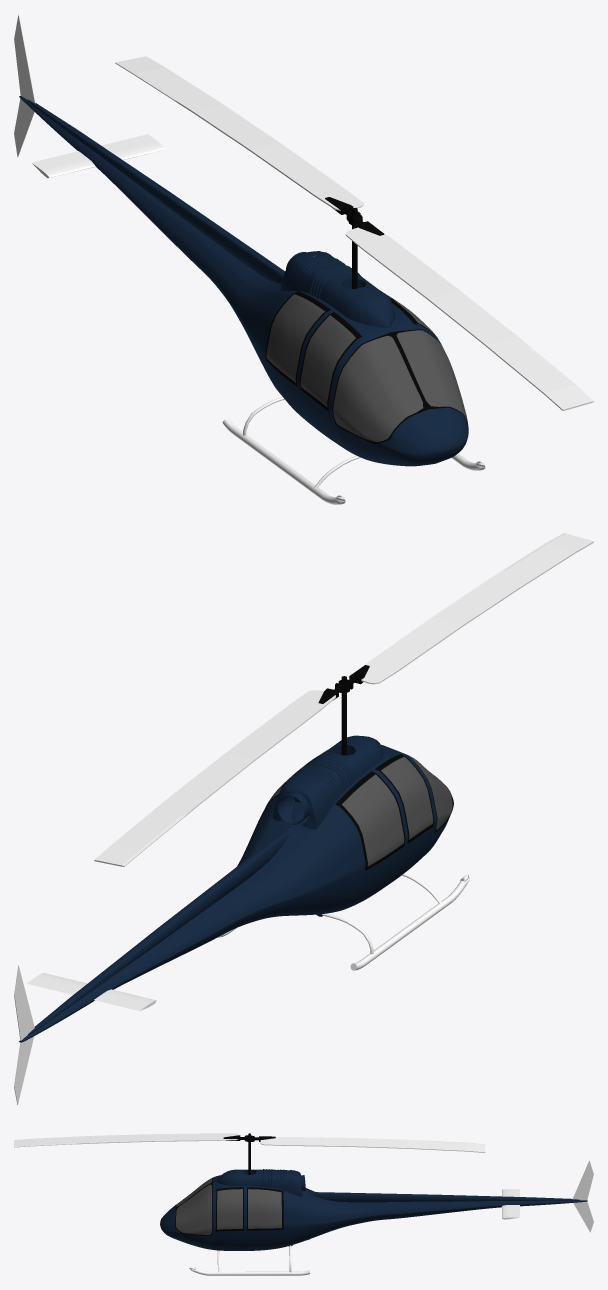
Rendered from Chopper.fbx.
3 views of the same model, one above another, from view 1: azimuth 30°, elevation 25°; view 2: azimuth 150°, elevation 25°; view 3: azimuth 270°, elevation 25° (orthographic). The views are drawn at different scales.
Parts seen in each view (by area): view 1: air.003, air.001; view 2: air.003, air.001; view 3: air.003, air.001.
Boxes of the visible parts, bbox=[...] form: air.003: bbox=[14, 14, 485, 504]; air.001: bbox=[115, 56, 593, 410]; air.003: bbox=[14, 676, 469, 1104]; air.001: bbox=[94, 533, 593, 866]; air.003: bbox=[160, 1133, 593, 1275]; air.001: bbox=[14, 1133, 485, 1152].
Size of the model in its own units: 373 by 599 by 2535.
